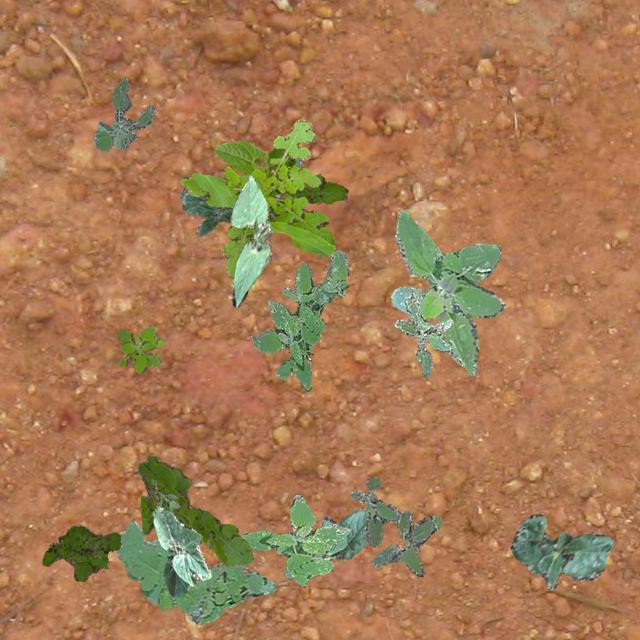crop: (509, 514, 612, 588), (282, 506, 368, 578), (152, 506, 210, 598), (230, 176, 270, 306), (264, 156, 300, 234), (180, 187, 232, 236), (212, 140, 268, 176)
weed: (180, 119, 334, 278), (390, 210, 504, 374), (116, 520, 276, 624), (250, 248, 348, 389), (138, 454, 252, 566), (240, 494, 350, 584), (349, 476, 442, 576), (393, 288, 452, 378), (266, 146, 346, 202), (94, 76, 154, 150), (41, 524, 119, 580), (116, 324, 164, 374), (150, 478, 178, 514)
